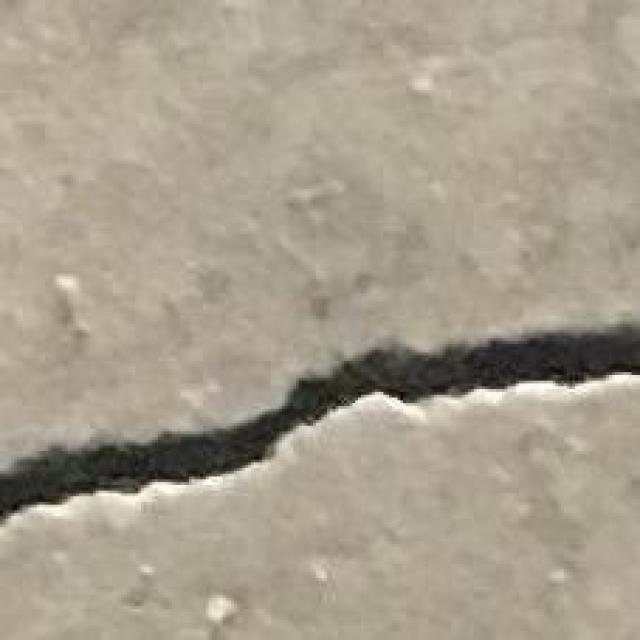diagonal crack: (0, 323, 639, 522)
